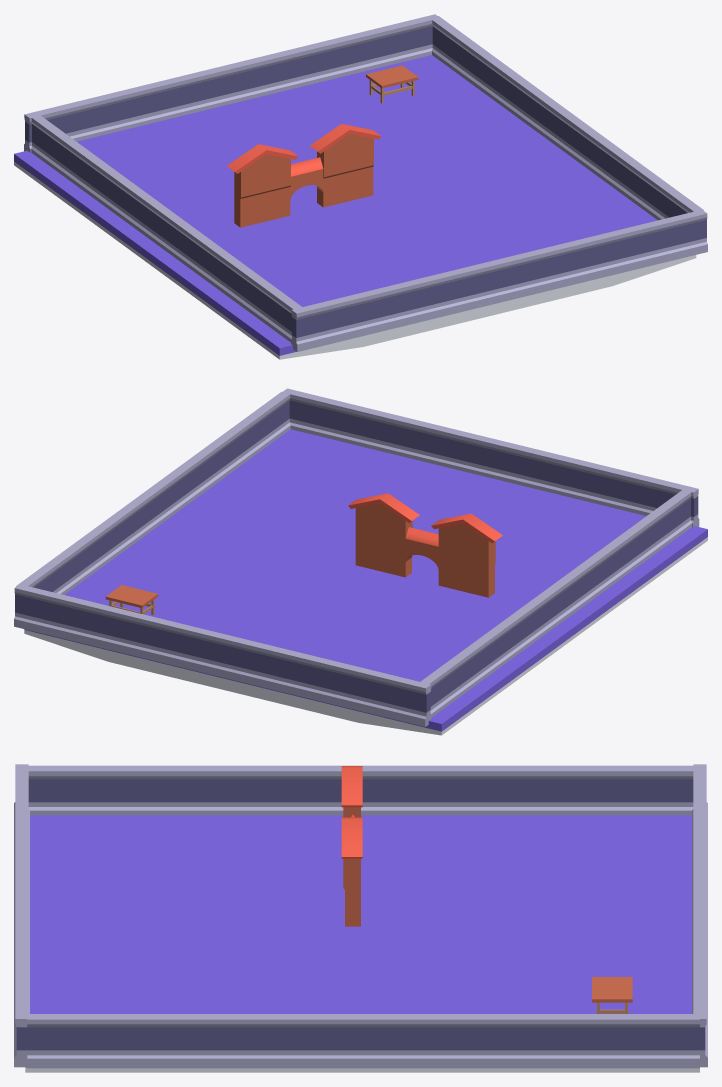
File: Level1.fbx
The picture shows the model from 3 angles, top to bottom: view 1: azimuth 30°, elevation 25°; view 2: azimuth 150°, elevation 25°; view 3: azimuth 270°, elevation 25°; orthographic projection. The views are drawn at different scales.
Visible parts, largest first — view 1: hull_lower, wall (×4), building_castle, furniture_table; view 2: hull_lower, wall (×4), building_castle, furniture_table; view 3: hull_lower, wall (×4), building_castle, furniture_table.
Part boxes in pixels (box(x1,y1,x2,y2)): hull_lower: box(14, 55, 696, 359); wall (×4): box(24, 14, 707, 351); building_castle: box(227, 124, 381, 227); furniture_table: box(366, 65, 418, 103); hull_lower: box(24, 429, 707, 735); wall (×4): box(14, 388, 699, 726); building_castle: box(348, 493, 502, 597); furniture_table: box(105, 585, 158, 614); hull_lower: box(25, 815, 699, 1072); wall (×4): box(14, 764, 707, 1068); building_castle: box(341, 766, 362, 926); furniture_table: box(592, 977, 632, 1013).
Size of the model in its own units: 351 by 77.78 by 390.
